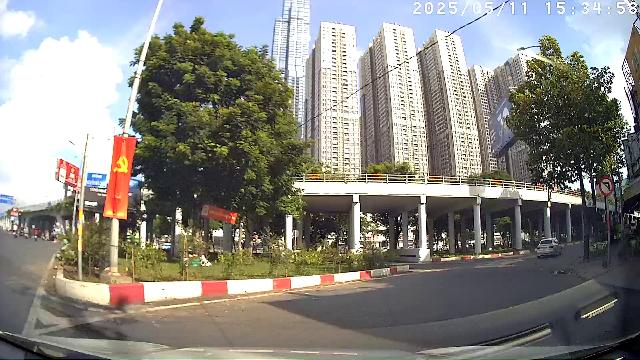123a-cam-re-trai: (598, 176, 614, 196)
